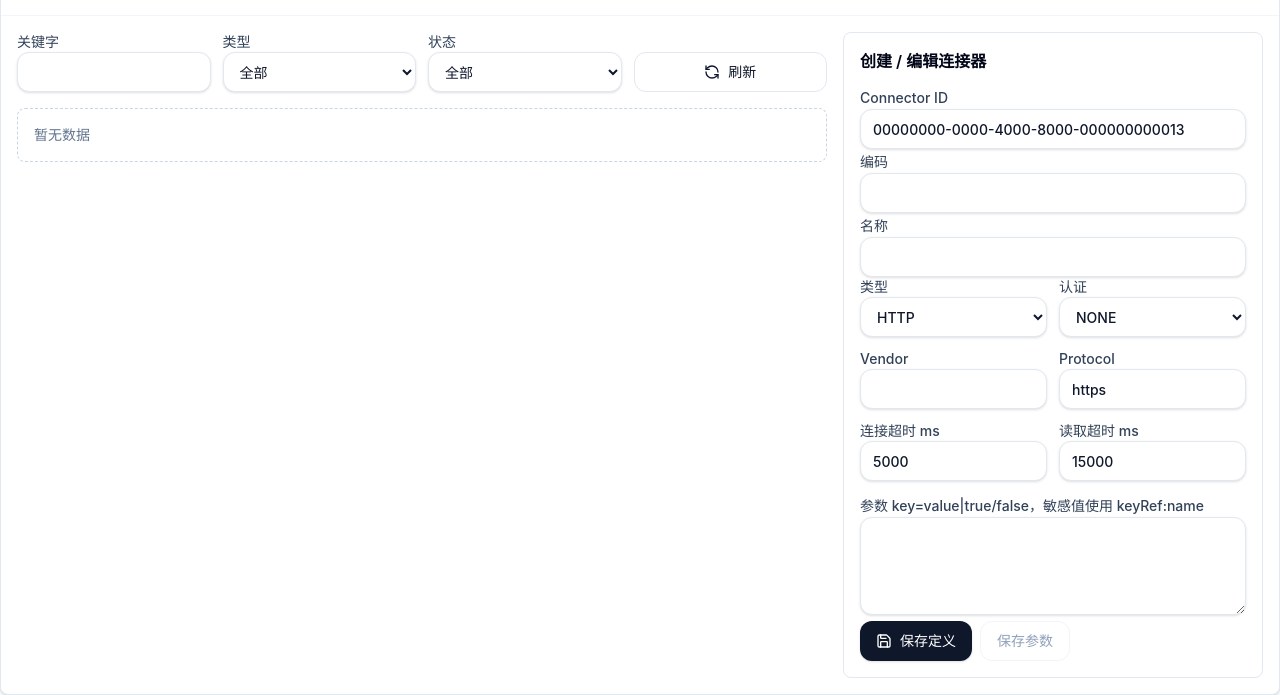
Test: DataServicesPage › shows connector empty state and validates required form fields
(page scrolled)
Check: the text "暂无数据" is shown, box [17,108,827,162]
Click the button "保存定义".
click(916, 641)  # box [860,621,972,661]
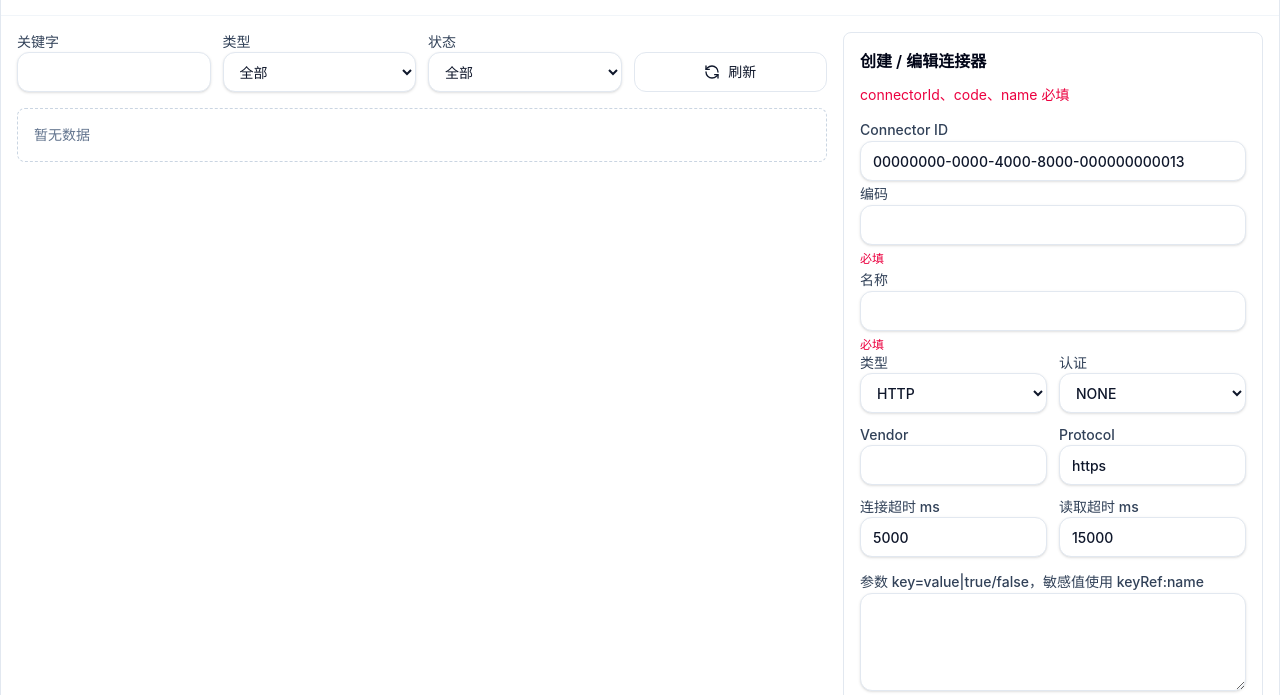
Check: the text "connectorId、code、name 必填" is shown, box [860,86,1069,103]
